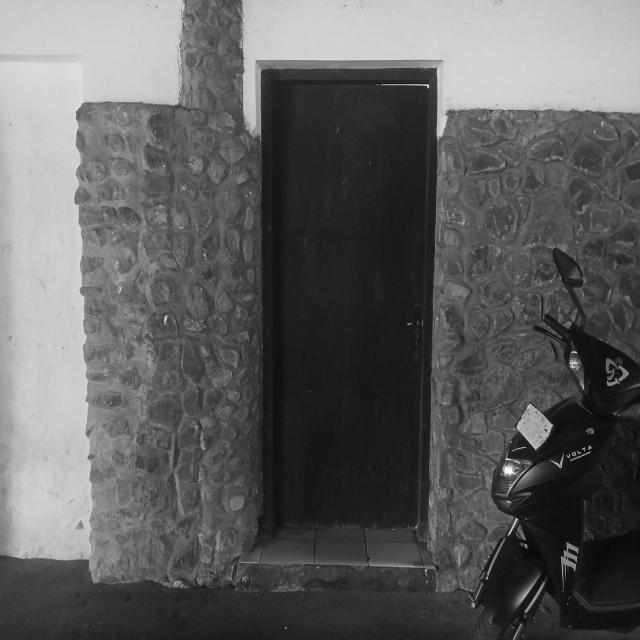door: (262, 66, 438, 532)
